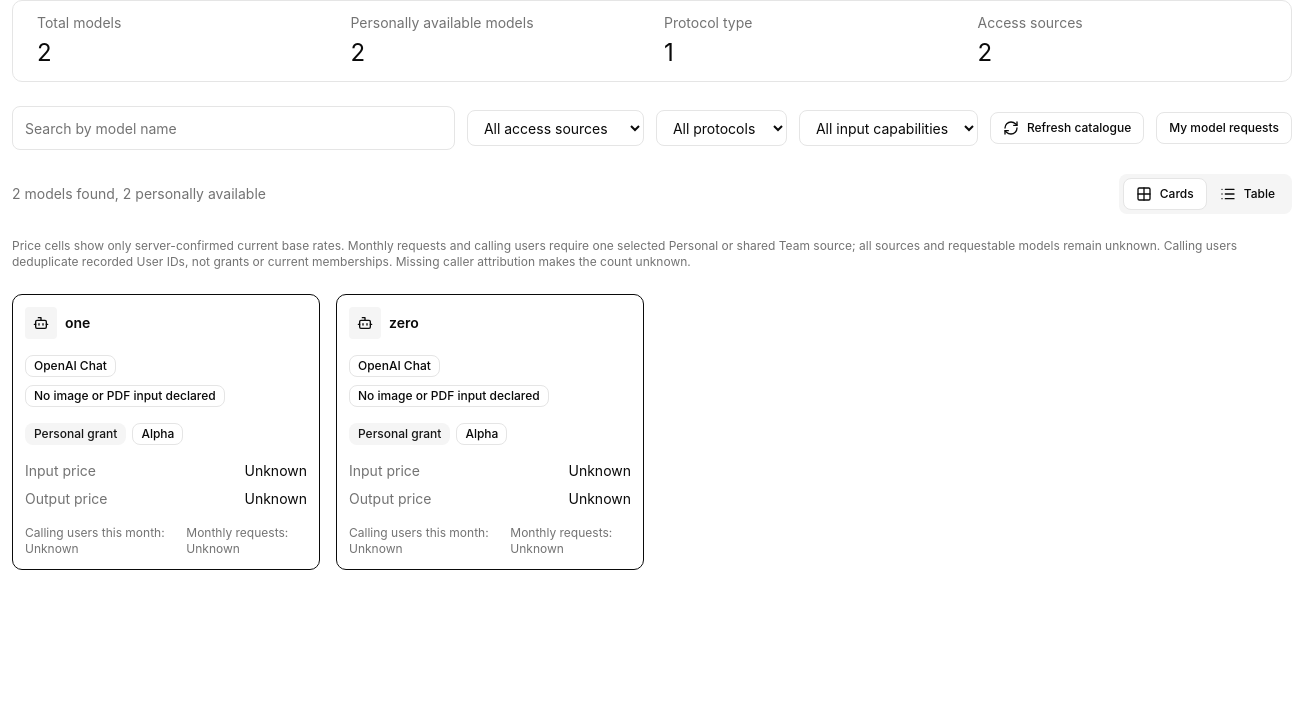
Test: source-scoped catalogue monthly request facts › refreshes a fast unchanged Team catalogue once and leaves failed usage Unknown
Expected: the number of list items is 2, left=12, top=294, right=320, bottom=570; left=336, top=294, right=644, bottom=570
Select "Alpha" in the dropdown named "Access source". click: coordinates (555, 128)
box: left=467, top=110, right=644, bottom=146
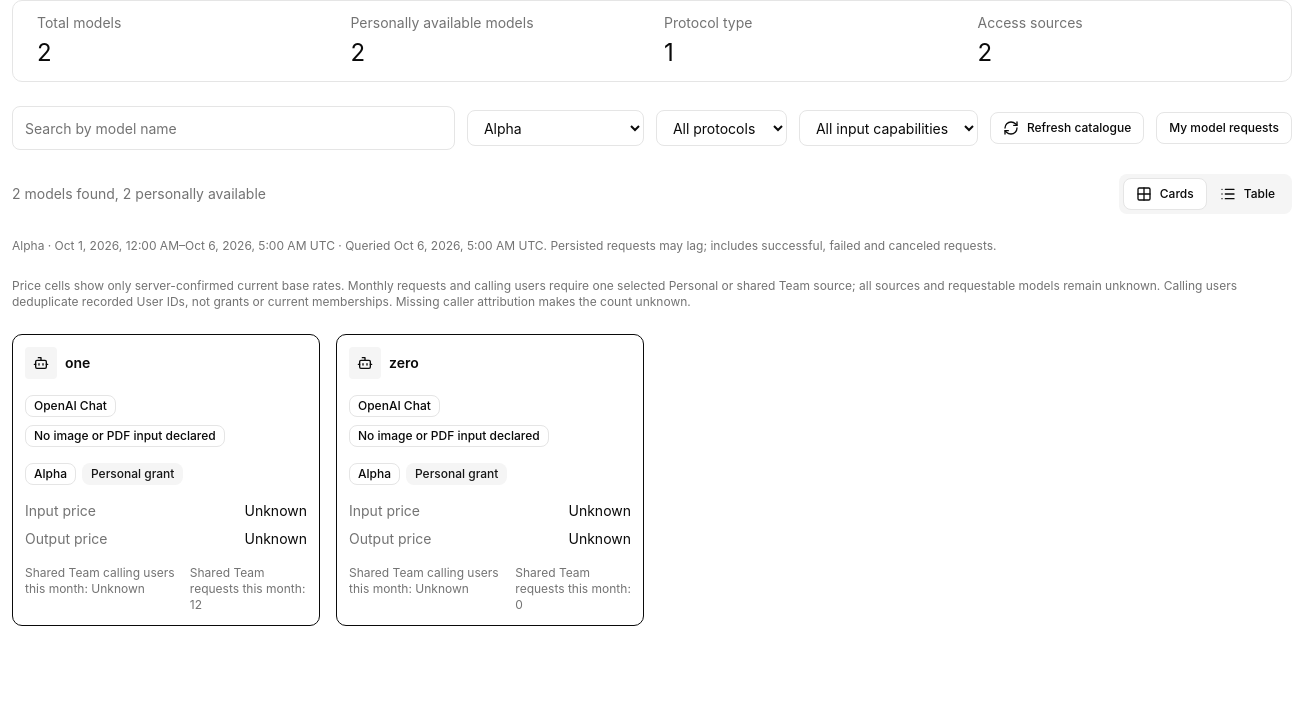
Now the list item with aria-label "Open API access for one" shows "month: 12", box left=12, top=334, right=320, bottom=626
Click the button "Refresh catalogue". click: coordinates (1067, 128)
box: left=990, top=112, right=1144, bottom=144
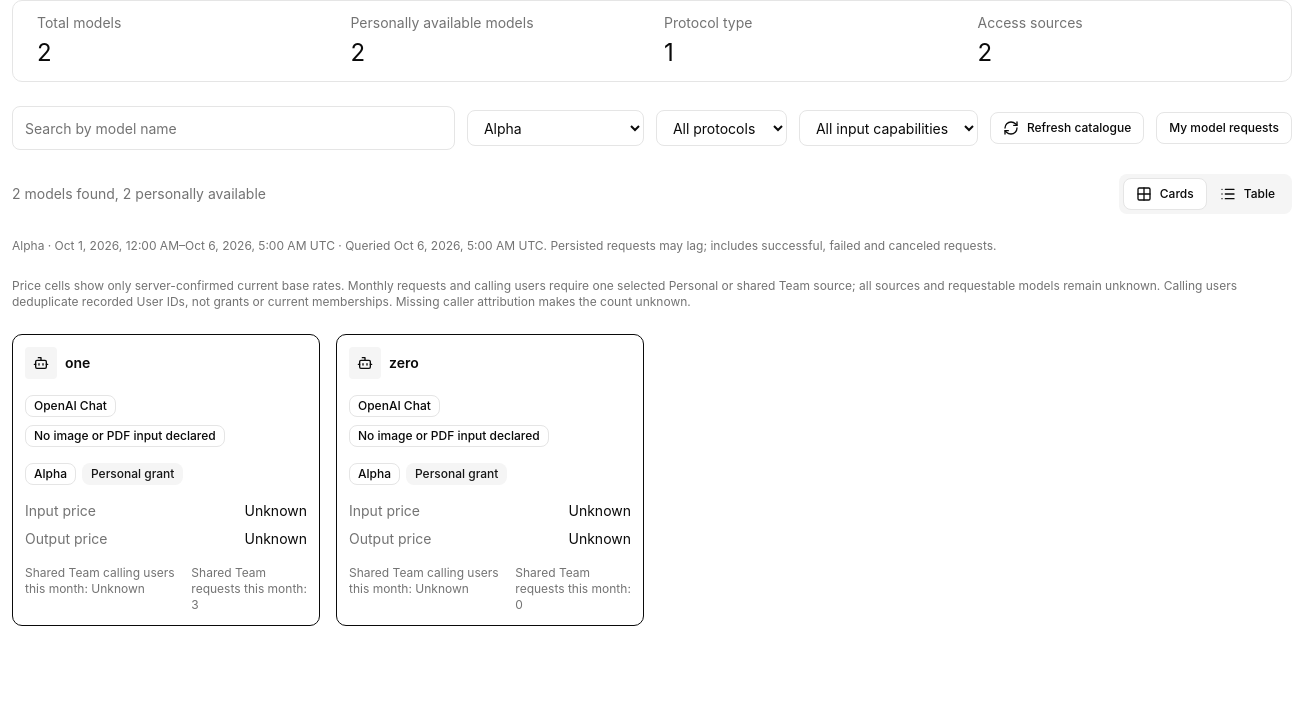
Now the list item with aria-label "Open API access for one" shows "month: 3", box left=12, top=334, right=320, bottom=626
Click the button "Refresh catalogue". click: coordinates (1067, 128)
box: left=990, top=112, right=1144, bottom=144
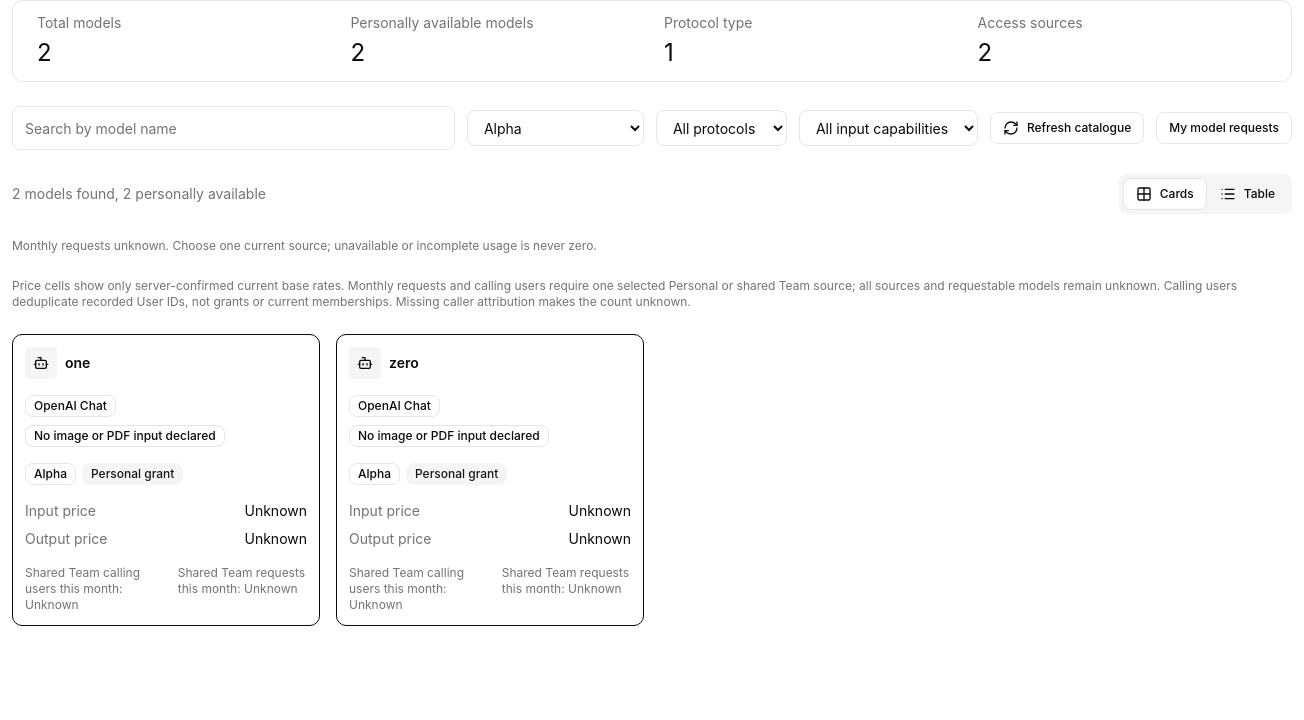
Expected: the list item with aria-label "Open API access for one" shows "month: Unknown", left=25, top=565, right=140, bottom=612
Now the text "month: 3" is gone
Now the text "may lag" is gone
